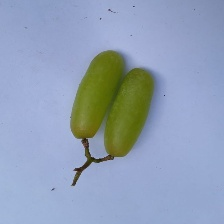grapes: (32, 25, 220, 221)
